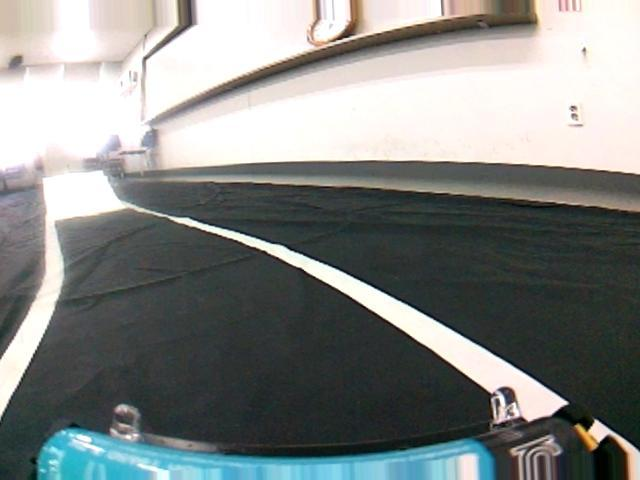left: (7, 225, 640, 480)
